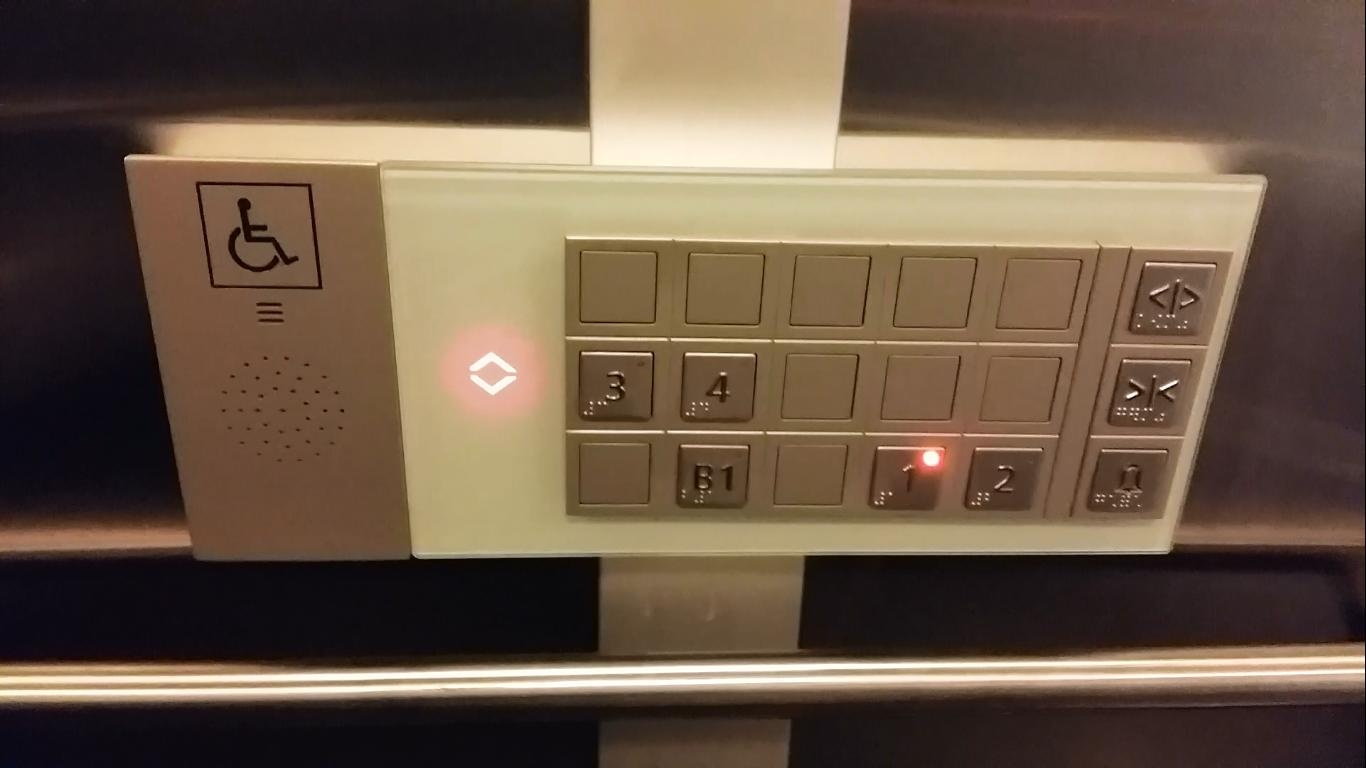1: (862, 438, 953, 522)
2: (959, 440, 1050, 524)
3: (569, 346, 660, 430)
4: (671, 346, 762, 430)
B1: (675, 439, 755, 520)
CH: (188, 178, 325, 298)
alarm: (1082, 443, 1173, 522)
close: (1103, 354, 1197, 441)
empty: (992, 248, 1082, 337), (977, 342, 1067, 431), (890, 246, 980, 335), (877, 341, 967, 430), (784, 244, 874, 333), (772, 342, 862, 431), (765, 429, 855, 518), (682, 242, 772, 331), (576, 243, 666, 332), (567, 426, 657, 515)
open: (1125, 254, 1219, 341)
